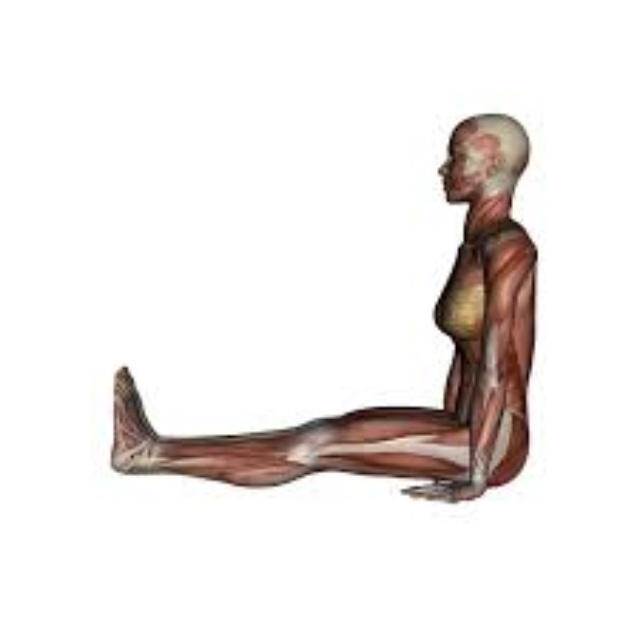Staff_Pose: (107, 111, 538, 504)
